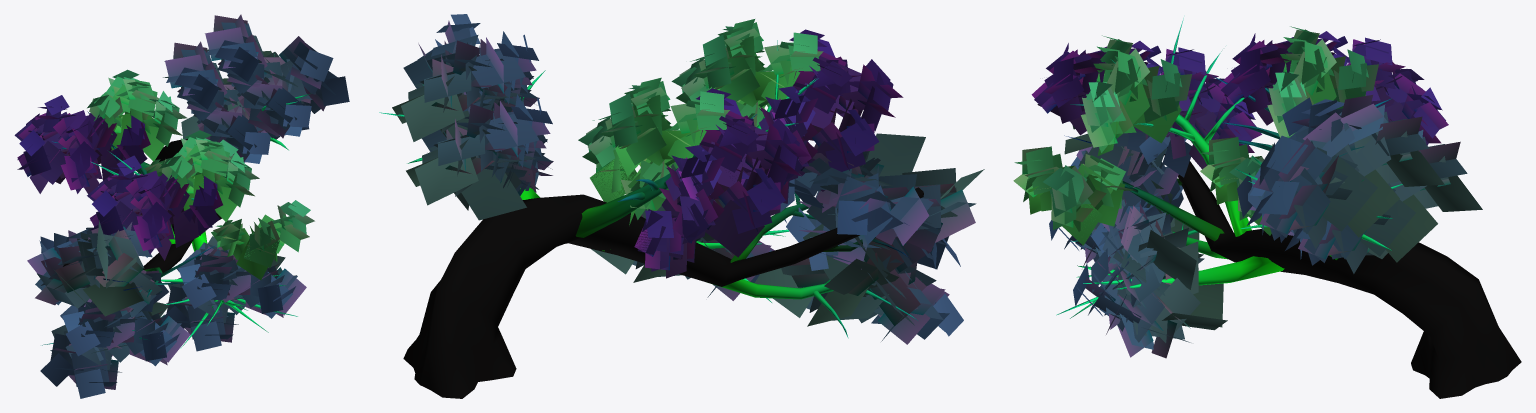
File: Tree_7.fbx
3 renders of one model, left to right at view 1: azimuth 30°, elevation 25°; view 2: azimuth 150°, elevation 25°; view 3: azimuth 270°, elevation 25°, orthographic. The views are drawn at different scales.
Visible parts, largest first — view 1: Object003; view 2: Object003; view 3: Object003.
Boxes of the visible parts, x1,y1,x2,y2 form: Object003: (14, 14, 349, 398); Object003: (379, 14, 984, 398); Object003: (1013, 18, 1521, 398).
Size of the model in its own units: 564 by 354 by 524.
